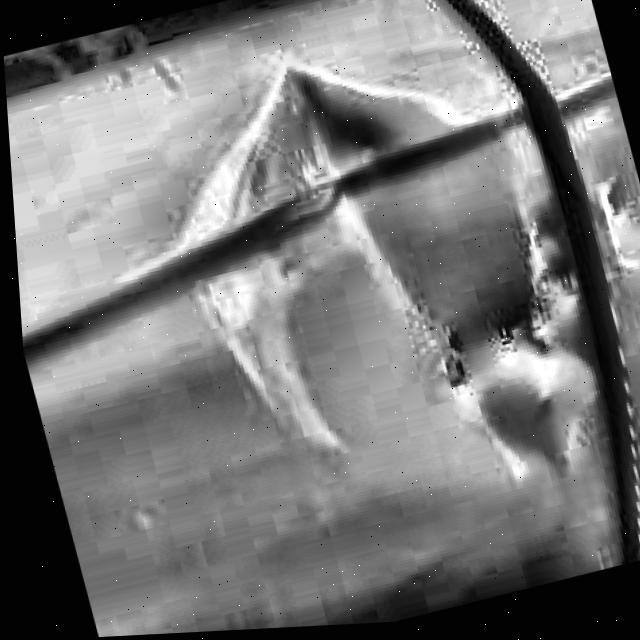door_dent: (133, 18, 629, 566)
